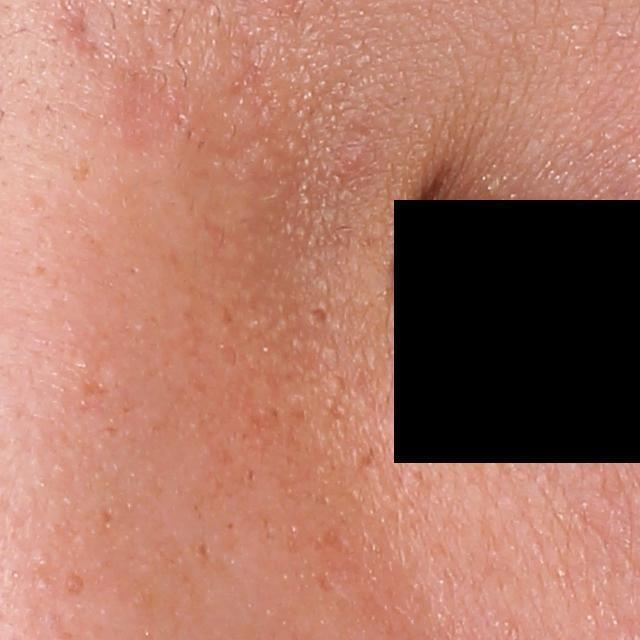melasma: (63, 569, 84, 598)
